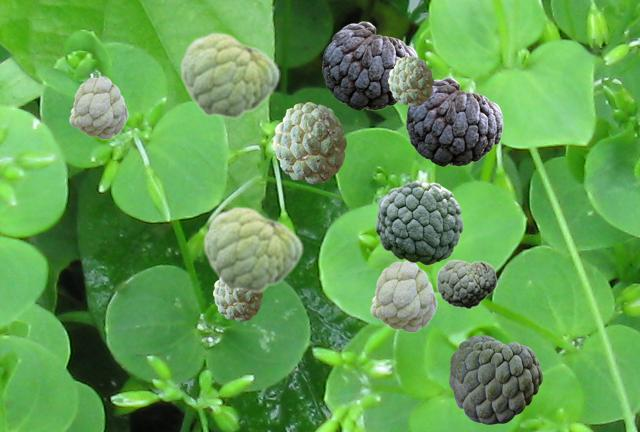atis: (179, 31, 279, 119), (202, 205, 302, 293), (406, 77, 502, 165), (322, 21, 418, 109), (449, 335, 541, 423), (375, 180, 462, 264), (273, 102, 345, 182), (370, 260, 436, 331), (69, 76, 127, 138), (436, 259, 496, 308), (388, 56, 432, 105), (213, 280, 261, 320)
